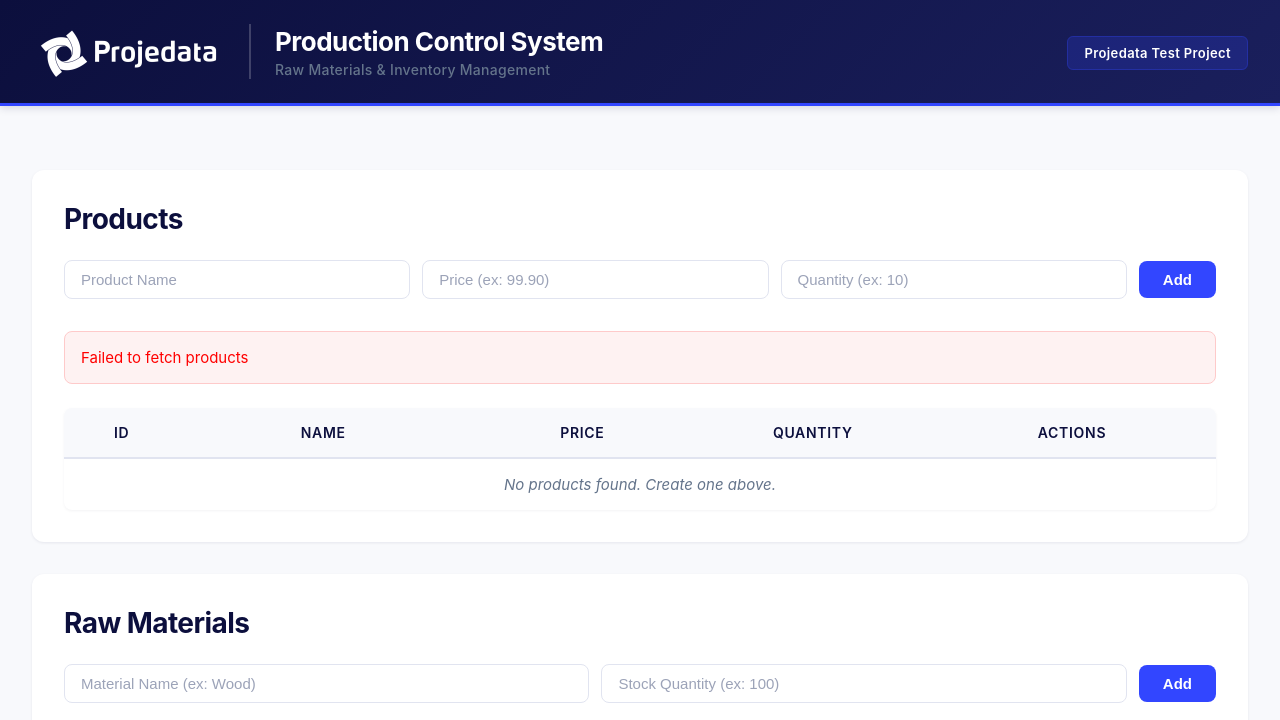
Test case: Products CRUD › Create Product › should validate price as positive number
The width and height of the screenshot is (1280, 720).
Type "Test Product" into the field with test id "product-name-input" at (237, 280), box [64,260,410,299]
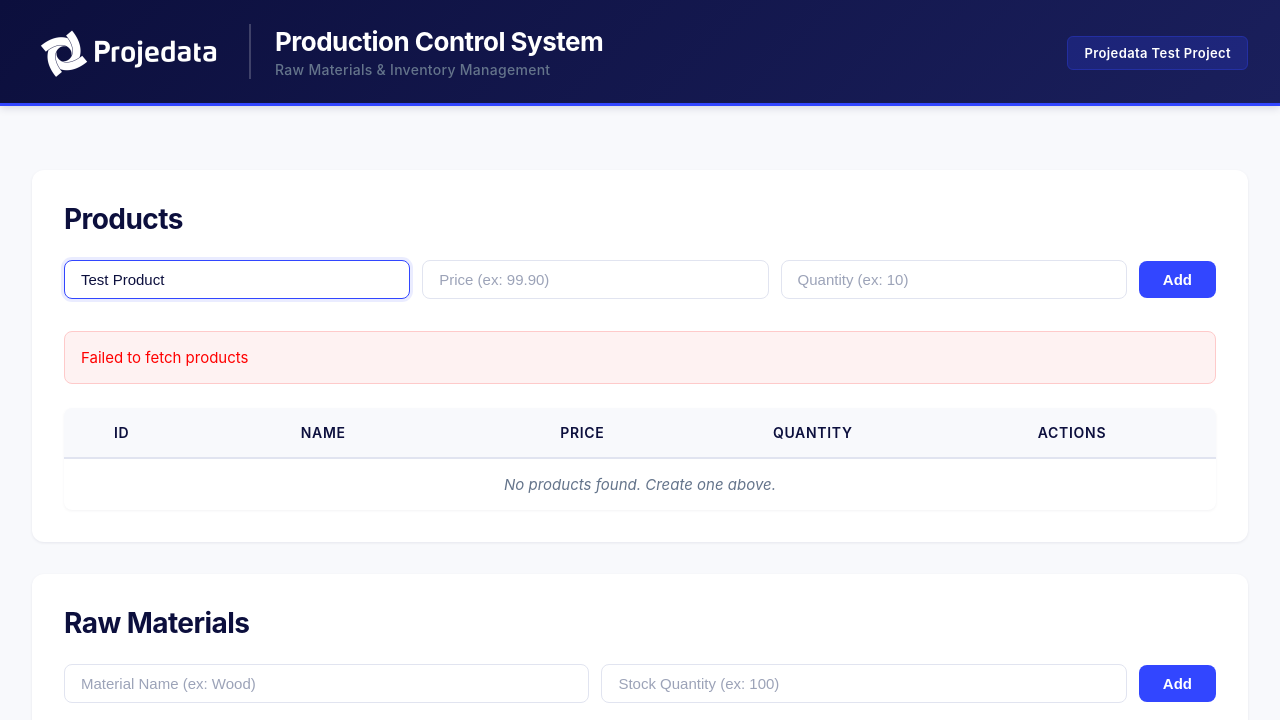
Type "0" into the number field with test id "product-price-input" at (595, 280), box [422,260,768,299]
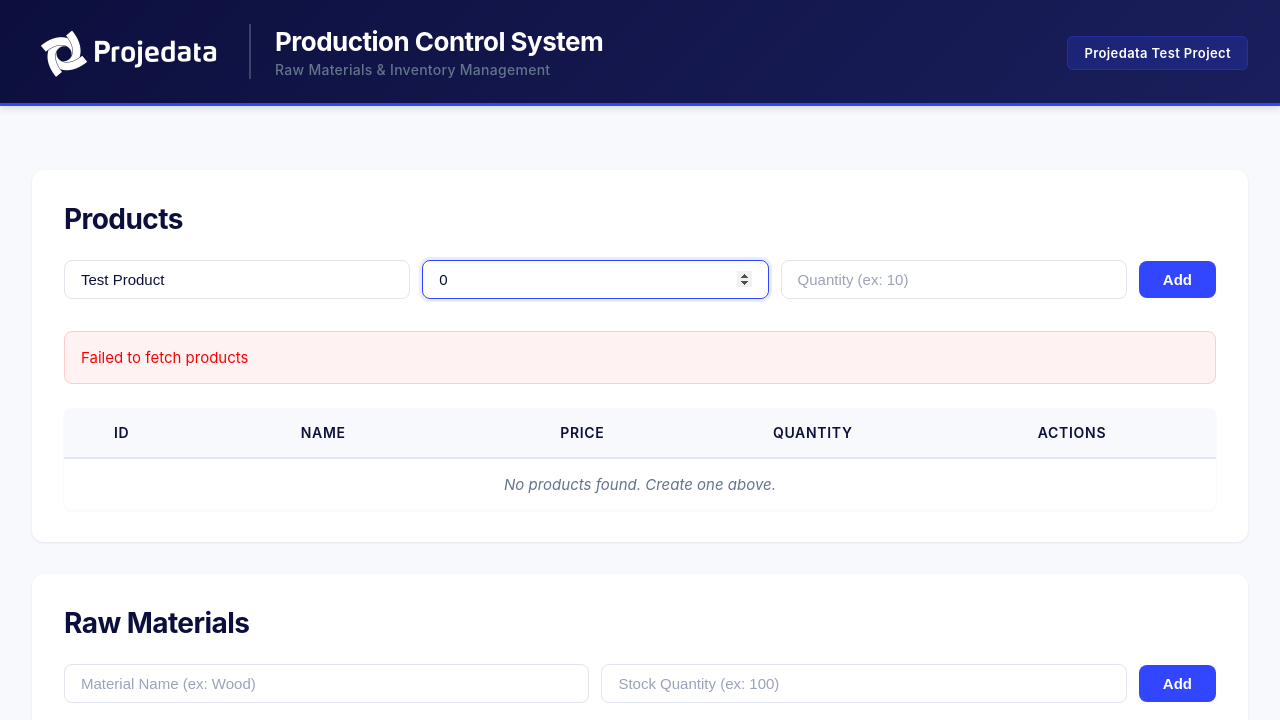
Type "5" into the number field with test id "product-quantity-input" at (954, 280), box [781,260,1127,299]
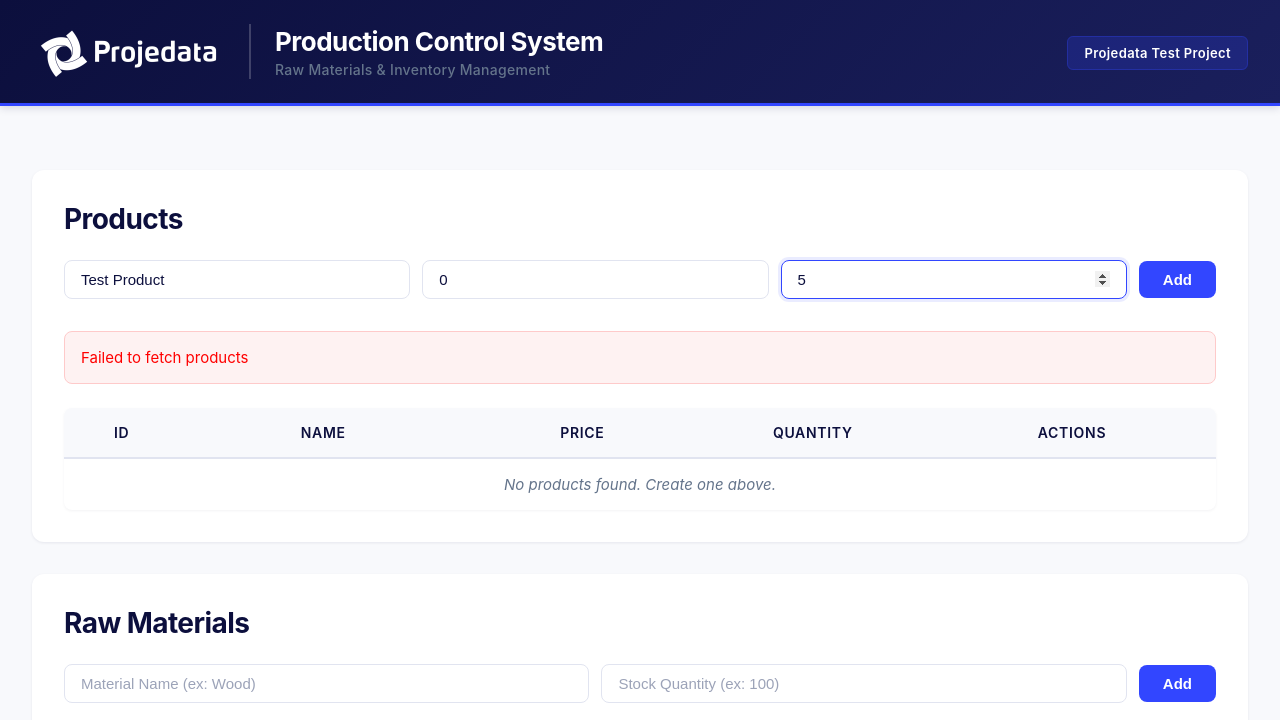
Click the button with test id "submit-product-btn" at (1178, 280), box [1139,261,1216,298]
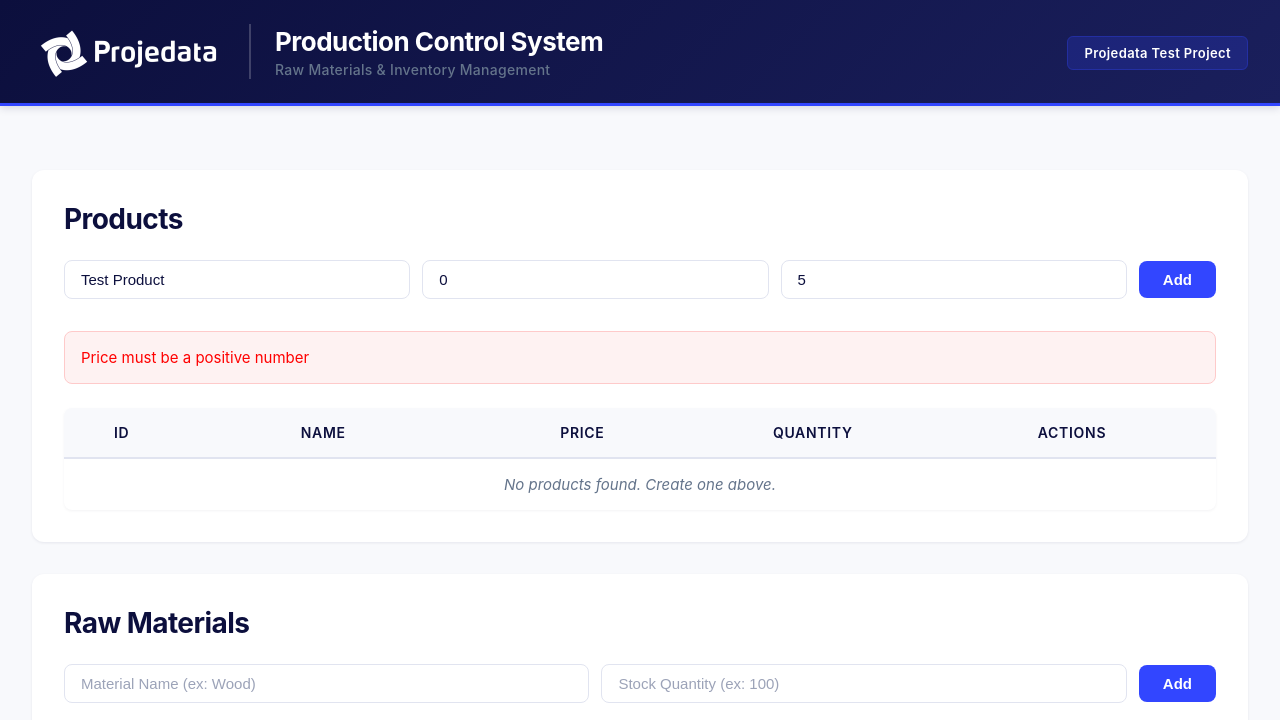
Expected: the text with test id "error-message" reads "Price must be a positive number", [81,348,309,367]
